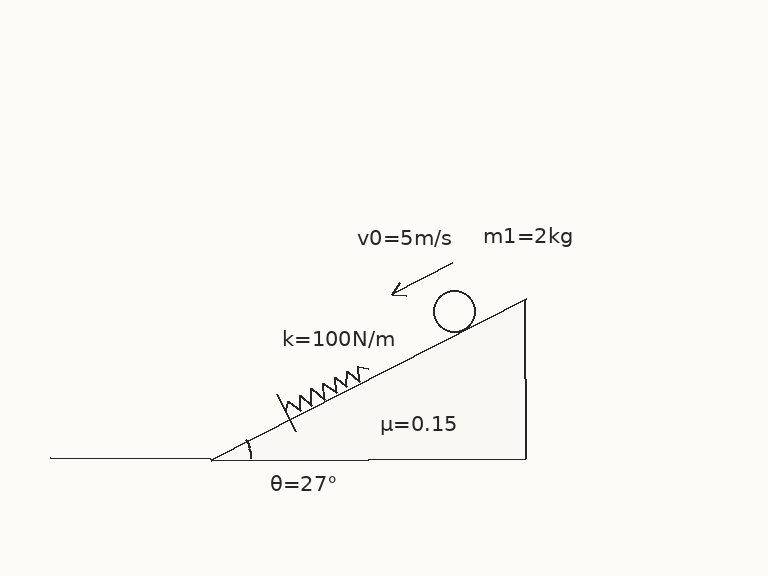ball: (431, 288, 477, 334)
ramp: (209, 296, 527, 460)
spring: (283, 363, 369, 412)
